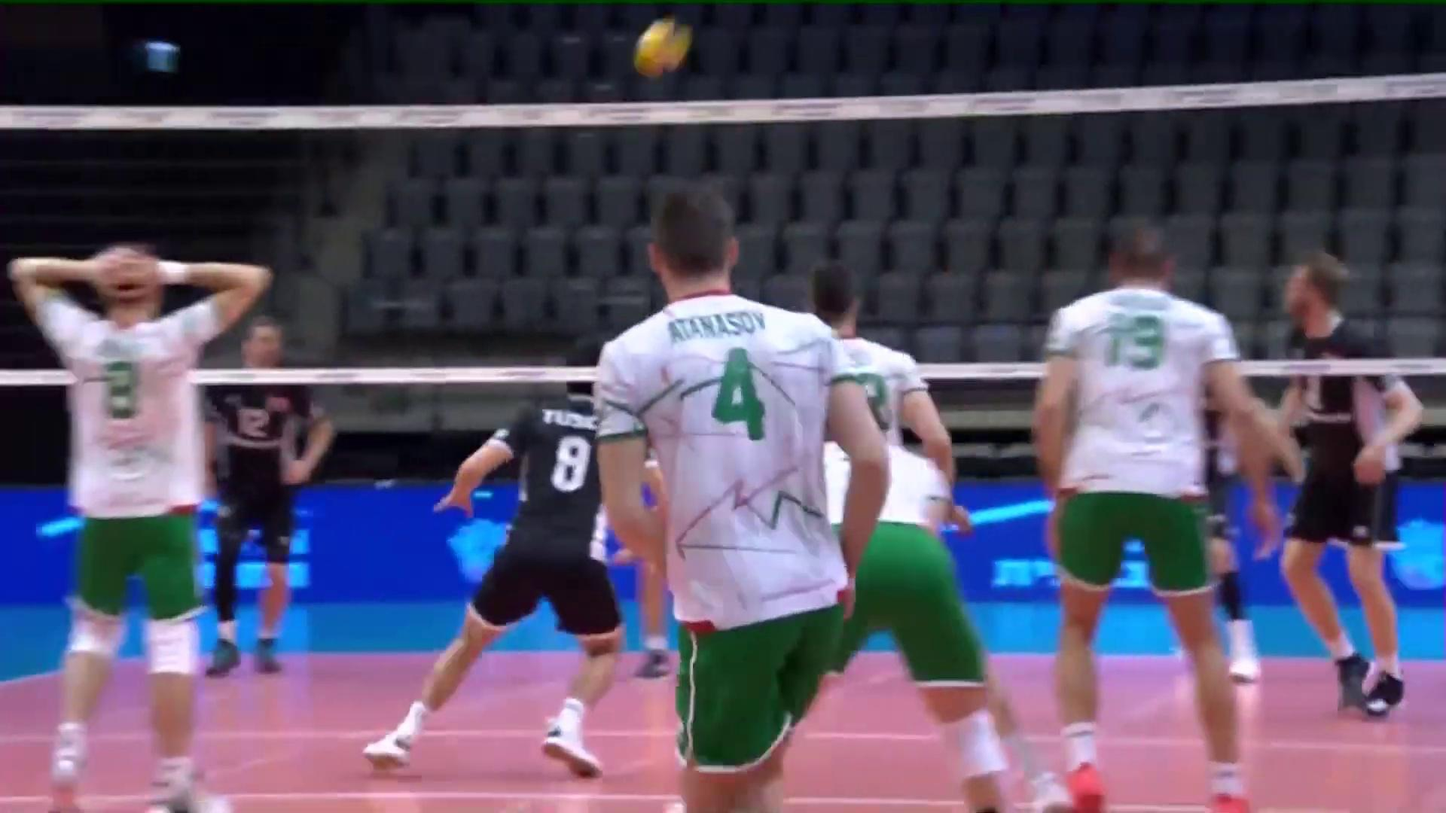ball: (631, 19, 694, 78)
